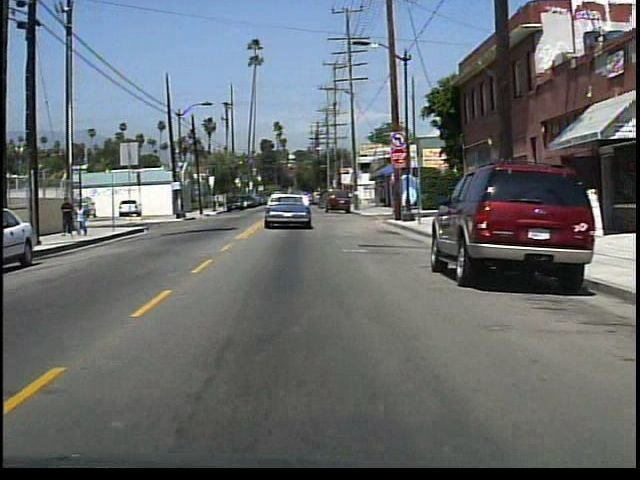person: (62, 195, 79, 236), (74, 201, 92, 238)
